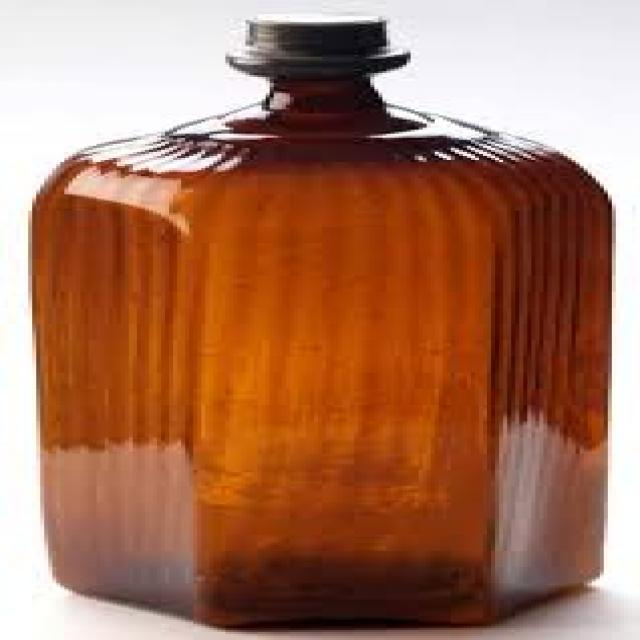Glass: (25, 11, 619, 632)
